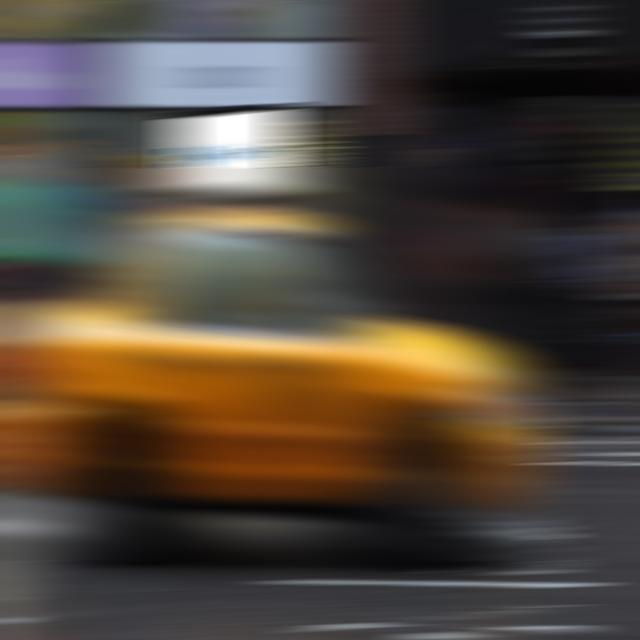Taxi: (0, 167, 556, 561)
